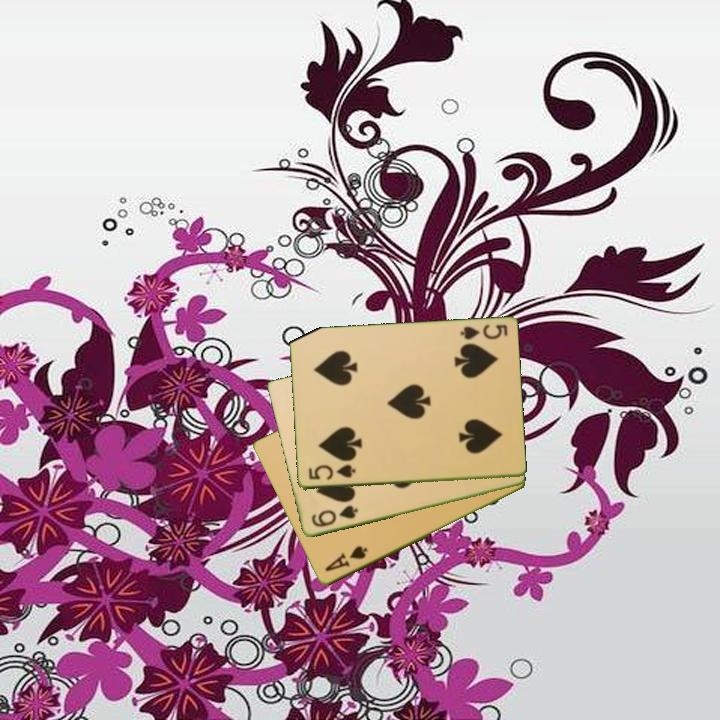5s: (456, 321, 510, 343), (305, 461, 358, 483)
6s: (308, 502, 361, 530)
As: (321, 542, 370, 575)
